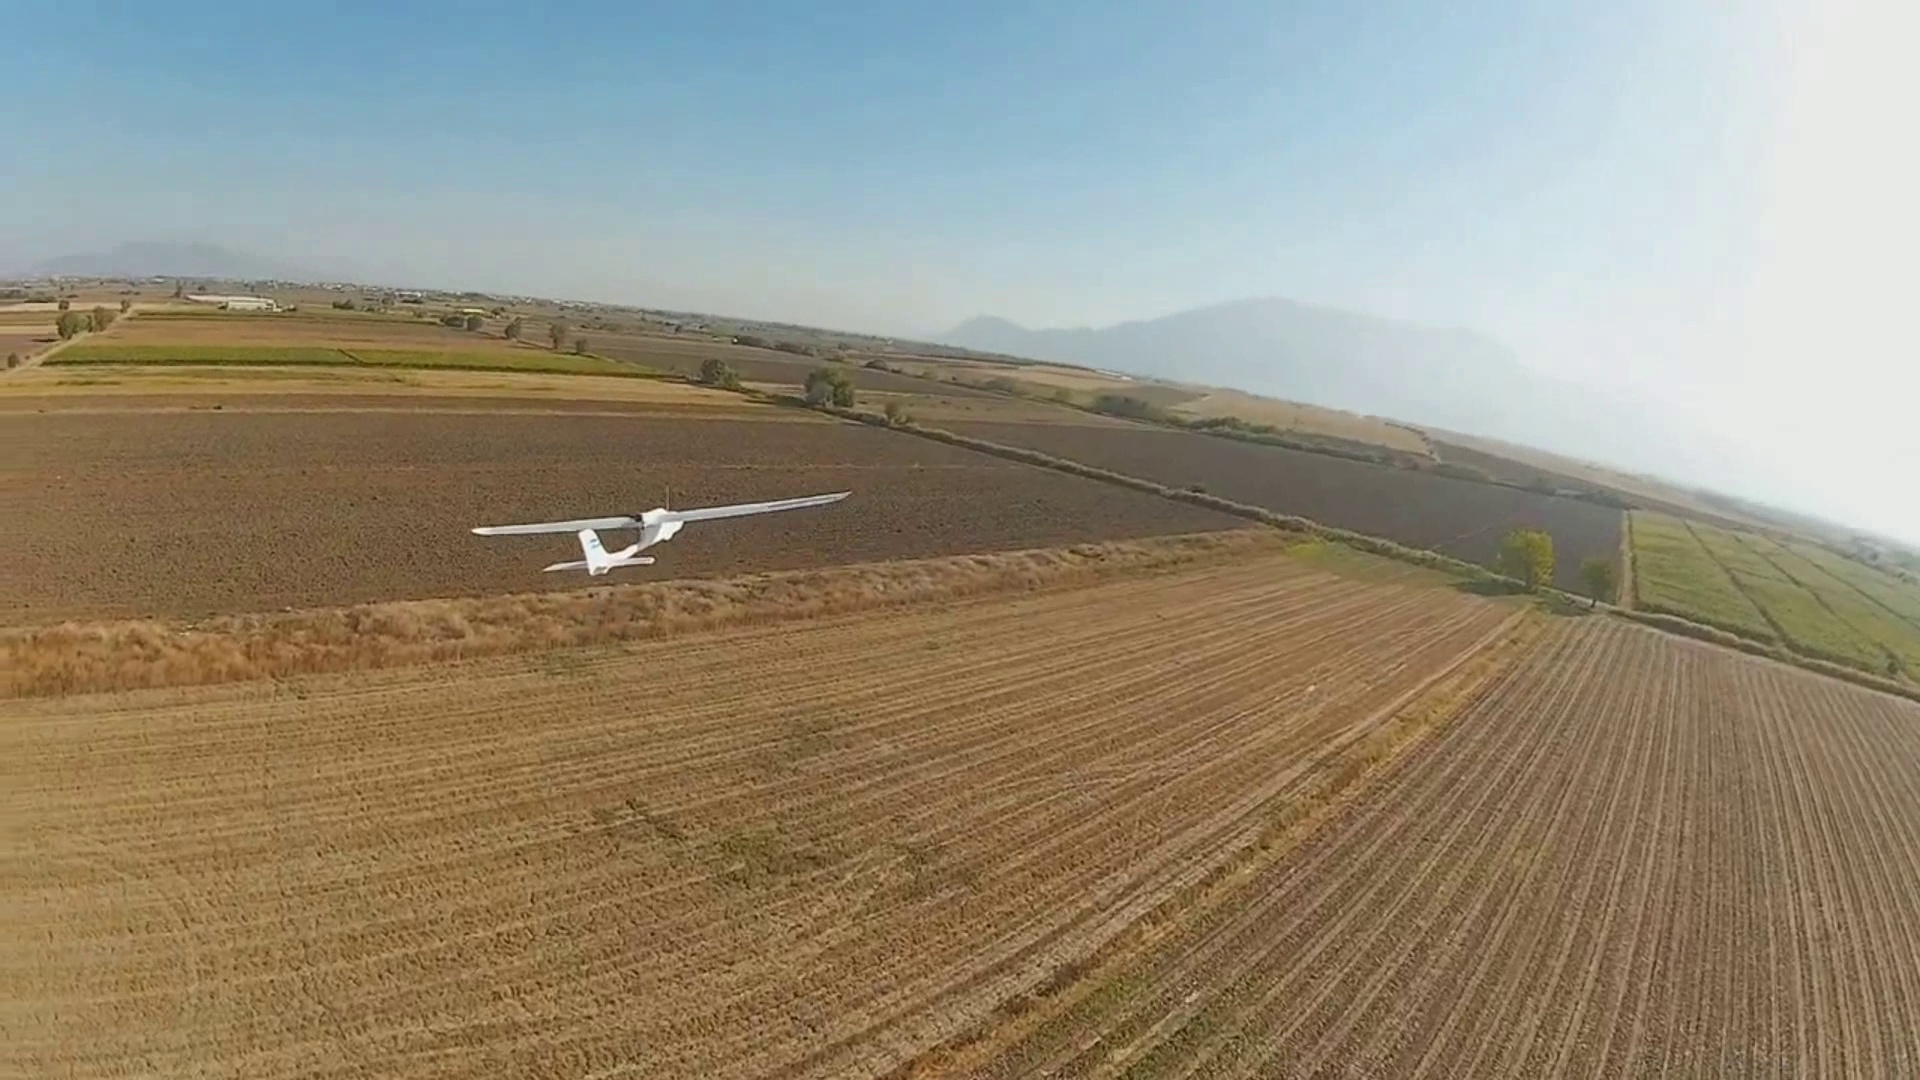airplane: (465, 491, 852, 582)
